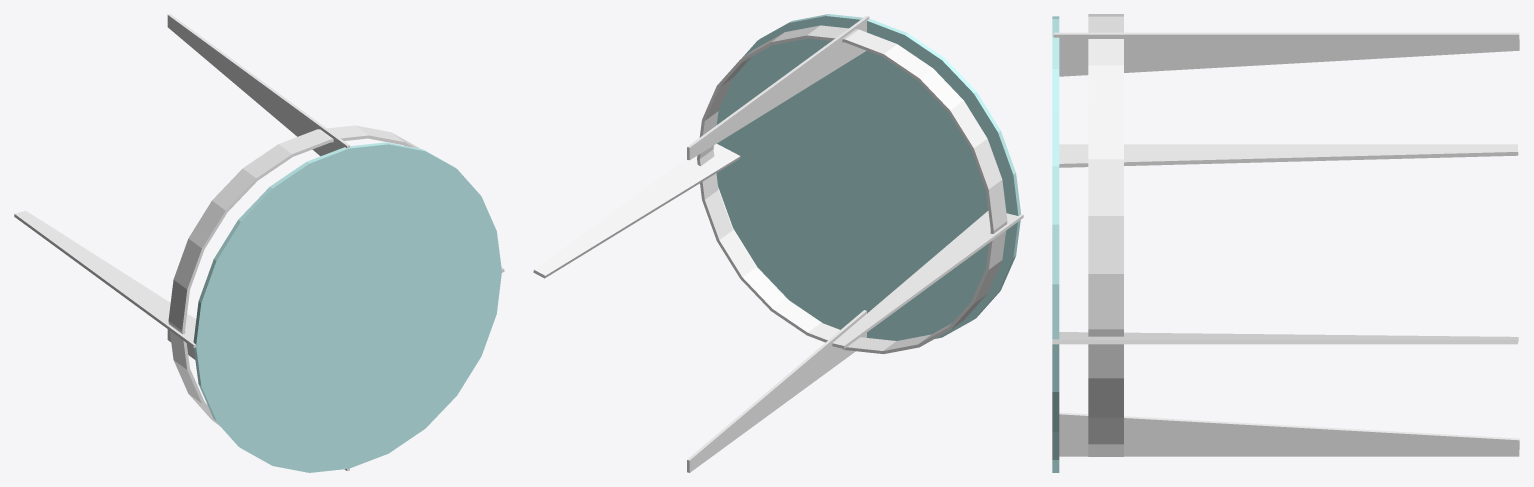
3 views of the same model, side by side, from view 1: azimuth 30°, elevation 25°; view 2: azimuth 150°, elevation 25°; view 3: azimuth 270°, elevation 25° (orthographic). The views are drawn at different scales.
Parts seen in each view (by area): view 1: side table; view 2: side table; view 3: side table.
Boxes of the visible parts, <box> form: side table: <box>14,14,504,472</box>; side table: <box>533,14,1023,472</box>; side table: <box>1052,14,1519,472</box>.
Bounding box in the file's own units: 25.61 × 25.59 × 25.68.
